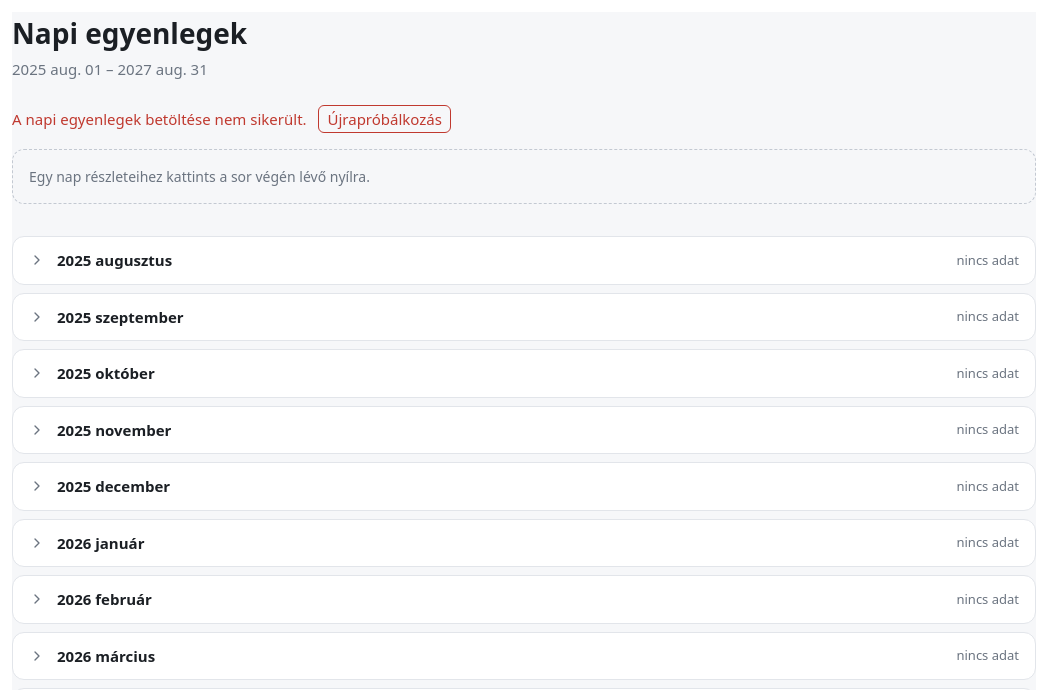
HomeComponent › should offer a Hungarian retry when the request fails
Click the button with class "retry": point(385, 119) [318,104,451,133]
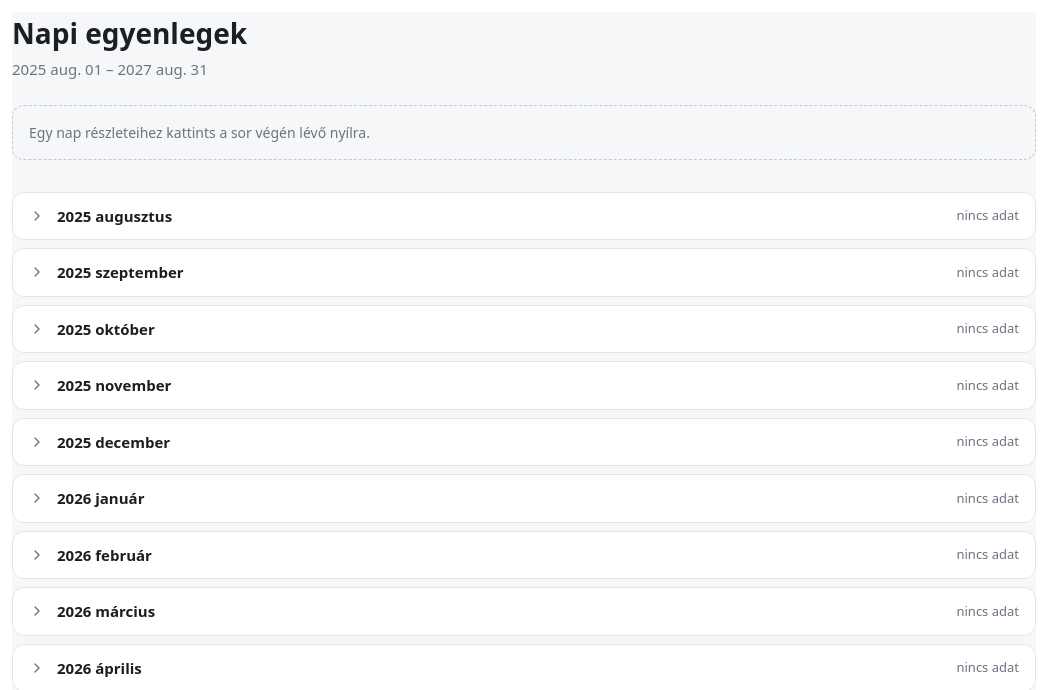
Check: the element with class "error" is gone
